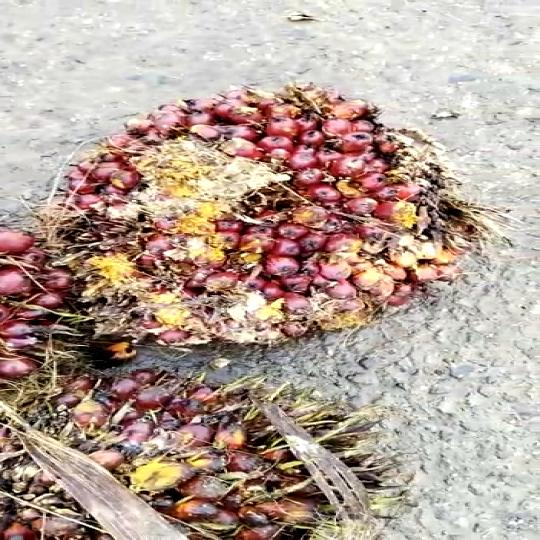masak: (38, 80, 492, 349), (0, 374, 411, 540)
